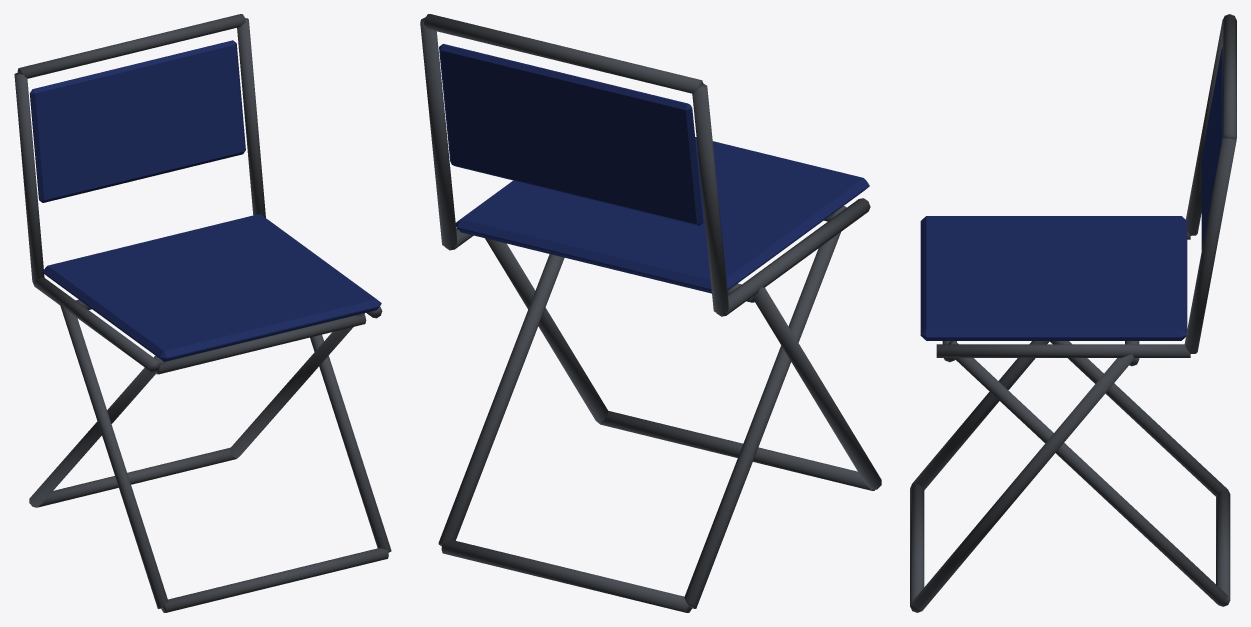
The model's file is CadeiraDobravel.fbx.
The picture shows the model from 3 angles, left to right: view 1: azimuth 30°, elevation 25°; view 2: azimuth 150°, elevation 25°; view 3: azimuth 270°, elevation 25°; orthographic projection. The views are drawn at different scales.
Parts seen in each view (by area): view 1: CadeiraDobravel; view 2: CadeiraDobravel; view 3: CadeiraDobravel.
Part boxes in pixels (x1,y1,x2,y2): CadeiraDobravel: [14, 14, 391, 612]; CadeiraDobravel: [420, 14, 881, 612]; CadeiraDobravel: [910, 14, 1236, 612].
Bounding box in the file's own units: 0.452 × 0.815 × 0.502.
